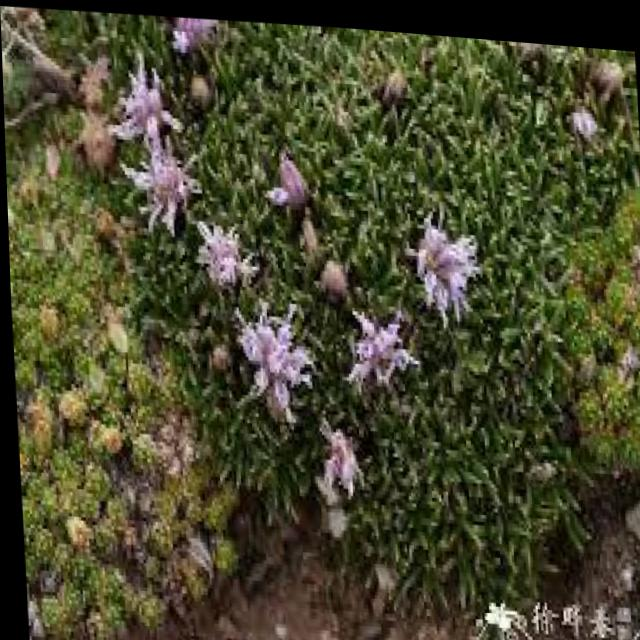Flower: (234, 312, 323, 416), (337, 280, 416, 391), (405, 210, 476, 327), (106, 58, 188, 159), (118, 136, 201, 226), (195, 199, 258, 304), (299, 423, 371, 506), (255, 139, 314, 213)
